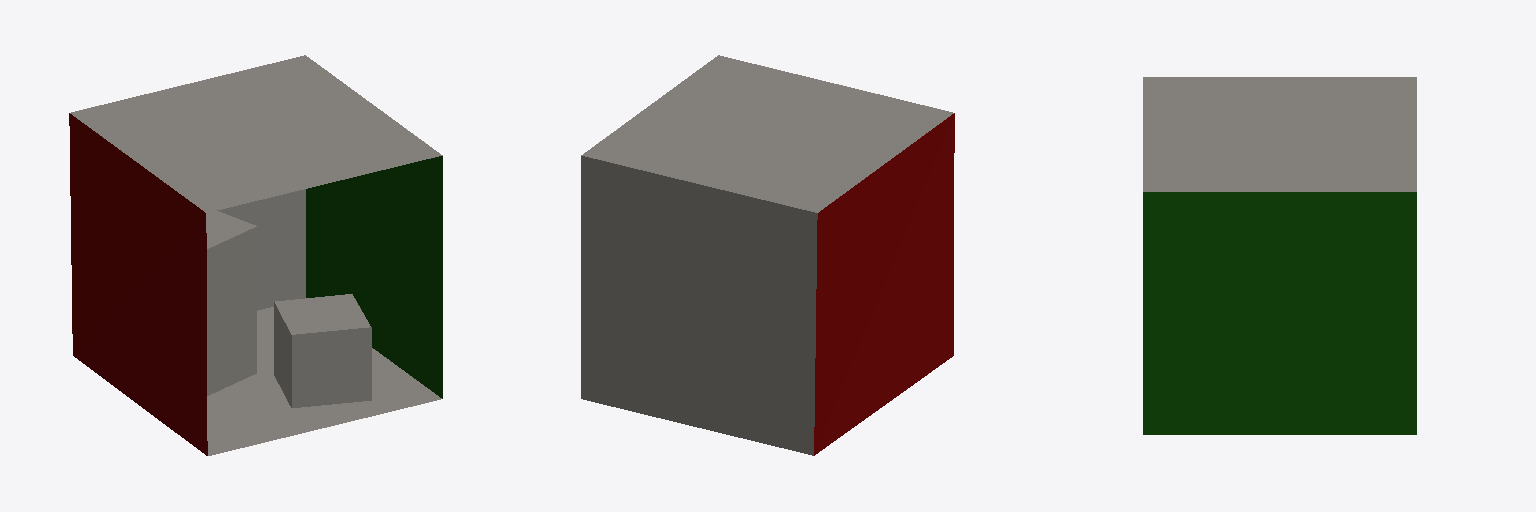
The model's file is cornell.obj.
3 views of the same model, side by side, from view 1: azimuth 30°, elevation 25°; view 2: azimuth 150°, elevation 25°; view 3: azimuth 270°, elevation 25° (orthographic).
Parts seen in each view (by area): view 1: leftWall, ceiling, rightWall, floor, shortBox, backWall; view 2: backWall, leftWall, ceiling; view 3: rightWall, ceiling.
Boxes of the visible parts, x1,y1,x2,y2 form: leftWall: [69, 113, 371, 455]; ceiling: [70, 55, 442, 212]; rightWall: [306, 156, 442, 398]; floor: [207, 307, 441, 455]; shortBox: [206, 211, 256, 395]; backWall: [217, 189, 305, 310]; backWall: [581, 156, 817, 455]; leftWall: [814, 113, 954, 455]; ceiling: [581, 55, 953, 212]; rightWall: [1143, 192, 1416, 434]; ceiling: [1143, 77, 1416, 191].
Size of the model in its own units: 101 by 99.5 by 102.